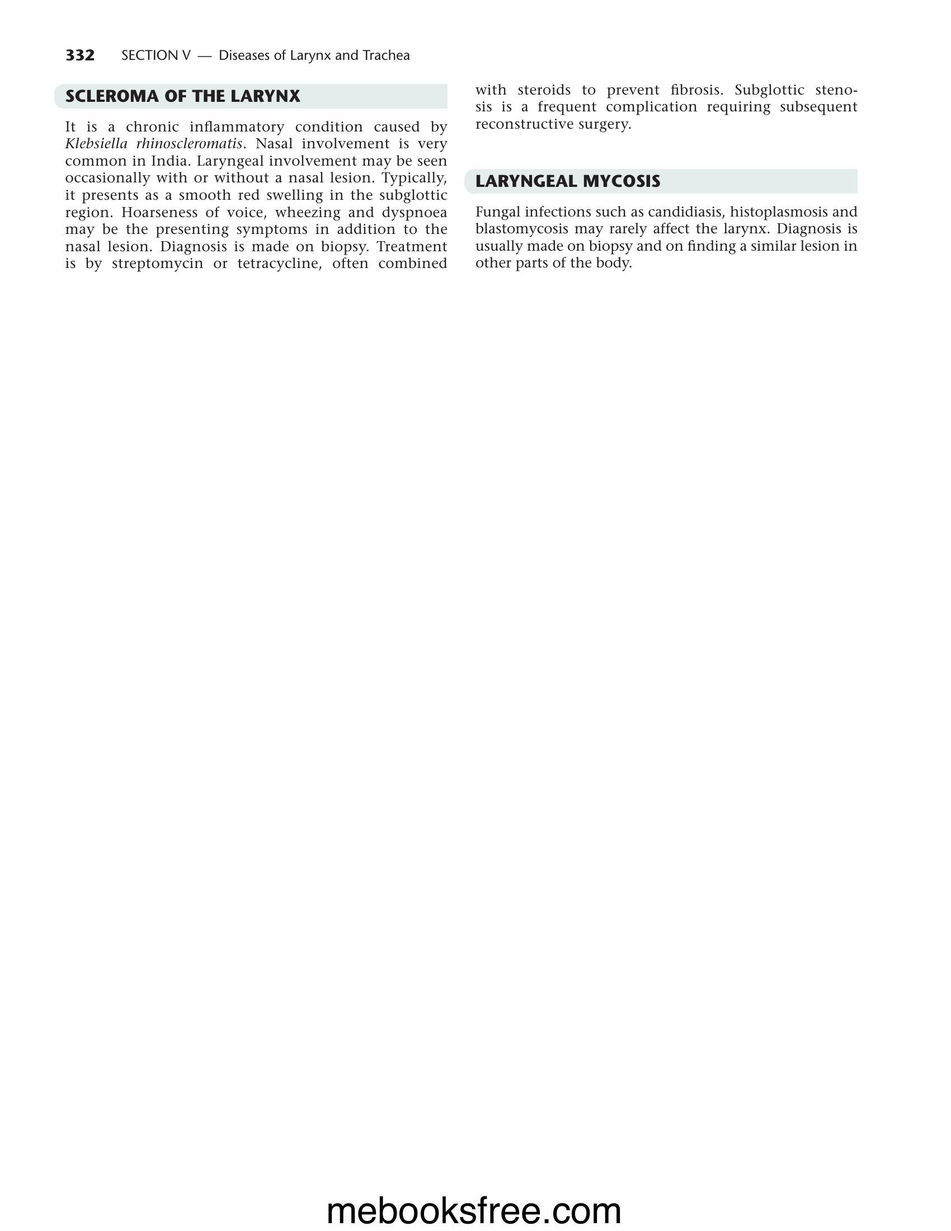header: (119, 46, 411, 64)
section-heading: (64, 87, 302, 104), (474, 172, 662, 188)
text: (64, 120, 449, 273), (475, 204, 858, 273), (474, 82, 859, 135)
